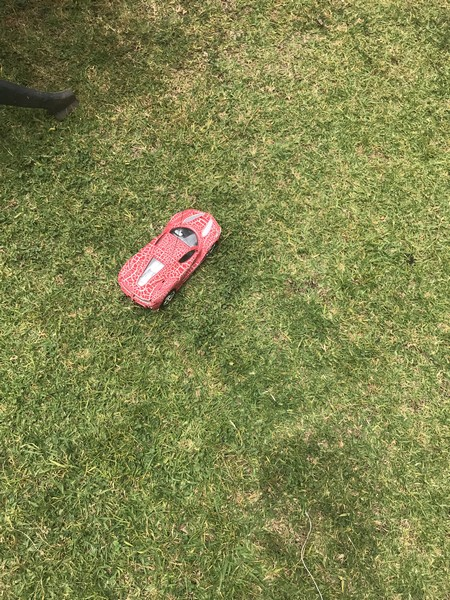RC: (114, 205, 223, 312)
